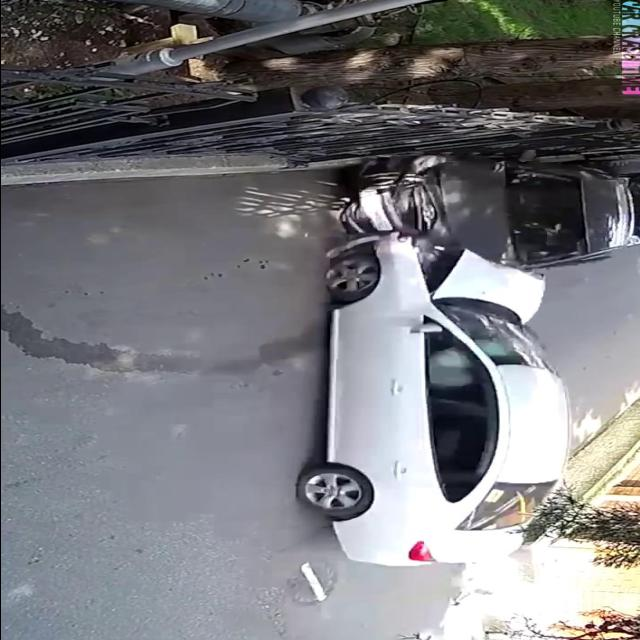accident: (286, 149, 640, 576)
